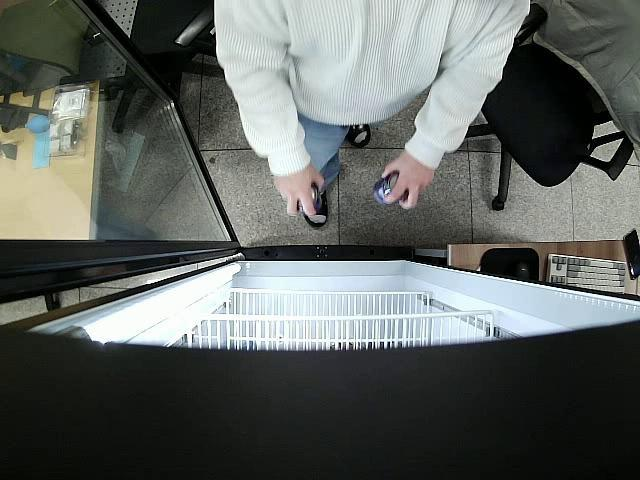14_welchsGrape: (370, 172, 407, 205), (296, 183, 324, 216)
